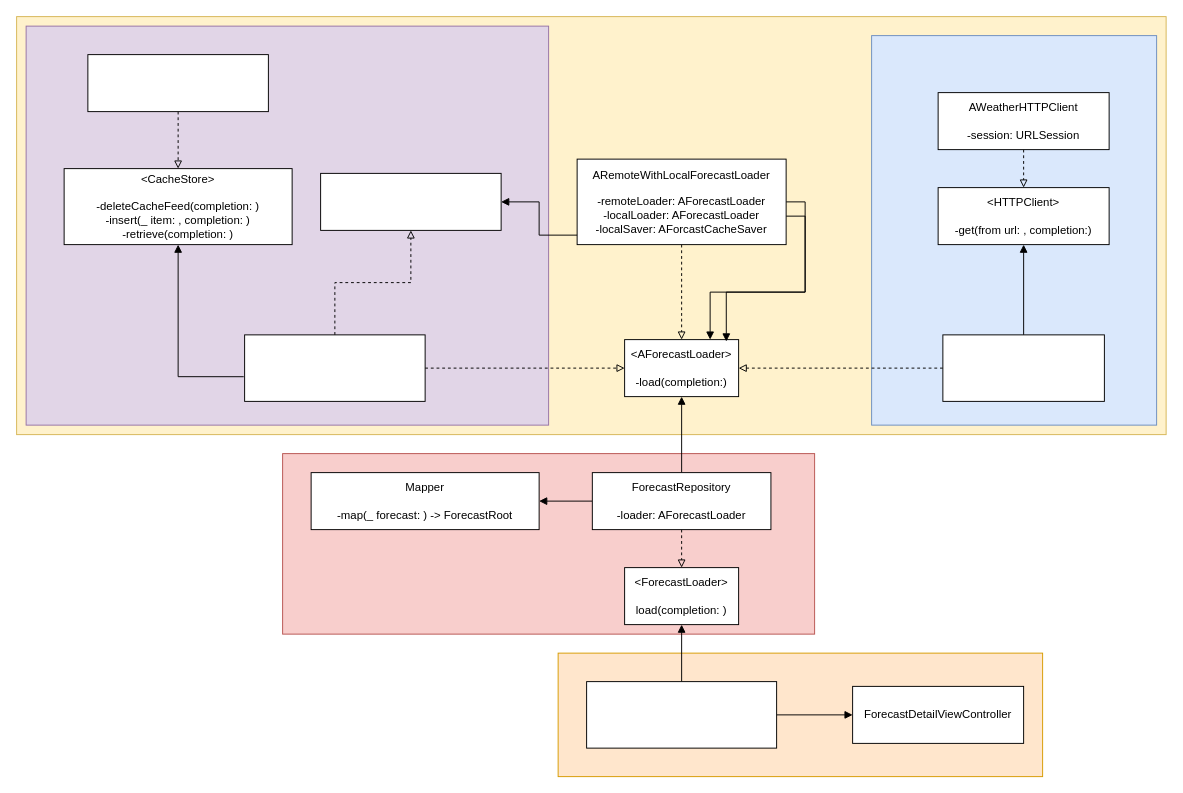
This 1183x793 diagram has some shape labels left out. Each missing label, with the centre of its shape:
"<AForcastCacheSaver> -save(_ item: , completion: )" belongs at pixel 410 201.
"ALocalForecastLoader -store: CacheStore -cache(item: , completion:)" belongs at pixel 334 367.
"ARemoteForecastLoader -httpClient: HTTPClient -url: URL" belongs at pixel 1023 367.
"AWeatherCacheStore -userDefaults: UserDefaults" belongs at pixel 177 83.
"DailyForecastViewController -forecastLoader: ForecastLoader" belongs at pixel 681 714.
